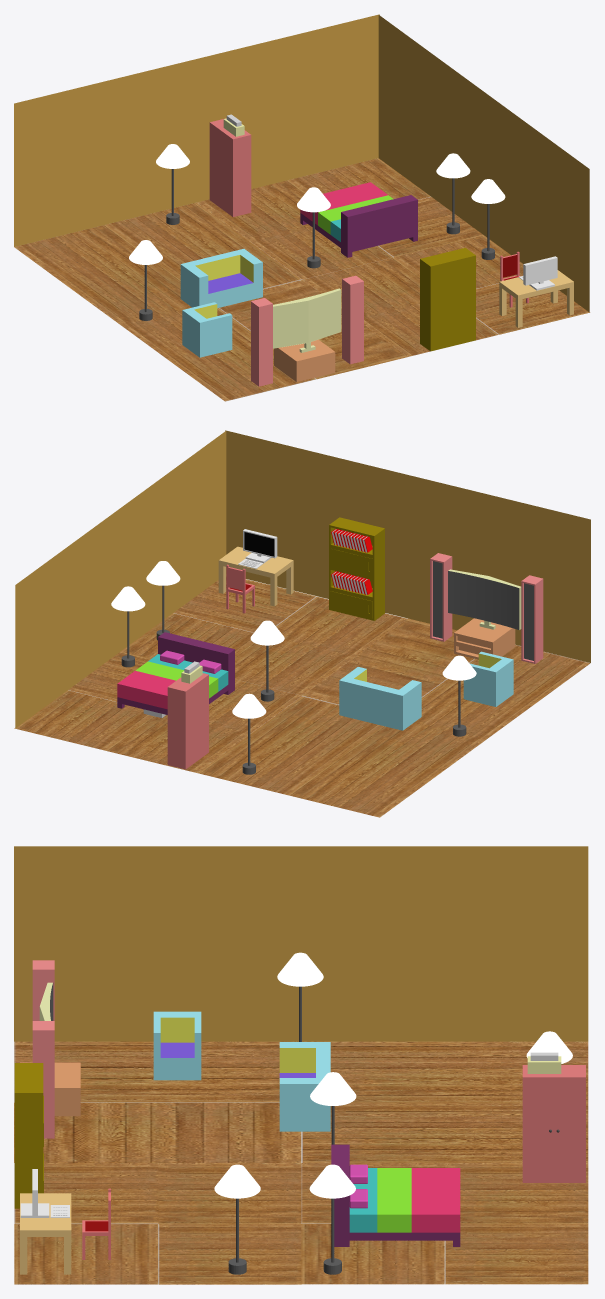
File: reWorkRoom.glb
3 views of the same model, one above another, from view 1: azimuth 30°, elevation 25°; view 2: azimuth 150°, elevation 25°; view 3: azimuth 270°, elevation 25° (orthographic). The views are drawn at different scales.
Visible parts, largest first — view 1: Environment2, Environment4, Floor_CommonRoom, Floor_Bedroom, Floor_Studyroom, bed, Book_shelf, Sofa_big, cupboard, Speakers, TV, Sofa_Small (+9 smaller); view 2: Environment3, Floor_CommonRoom, Environment4, Floor_Studyroom, Floor_Bedroom, bed, Book_shelf, cupboard, Speakers, Sofa_big, TV, Sofa_Small (+11 smaller); view 3: Environment5, Floor_CommonRoom, Floor_Studyroom, Floor_Bedroom, bed, cupboard, Sofa_big, Book_shelf, Sofa_Small, Speakers, TABLE, Lamp_study_room (+7 smaller).
Boxes of the visible parts, x1=… form: Environment2: x1=14, y1=14, x2=379, y2=246; Environment4: x1=378, y1=15, x2=589, y2=312; Floor_CommonRoom: x1=14, y1=202, x2=407, y2=401; Floor_Bedroom: x1=197, y1=158, x2=483, y2=279; Floor_Studyroom: x1=303, y1=235, x2=590, y2=356; bed: x1=300, y1=182, x2=417, y2=257; Book_shelf: x1=420, y1=248, x2=475, y2=351; Sofa_big: x1=180, y1=248, x2=262, y2=308; cupboard: x1=209, y1=114, x2=251, y2=216; Speakers: x1=251, y1=275, x2=363, y2=386; TV: x1=273, y1=288, x2=341, y2=352; Sofa_Small: x1=182, y1=302, x2=232, y2=357; Environment3: x1=225, y1=430, x2=590, y2=662; Floor_CommonRoom: x1=197, y1=618, x2=590, y2=817; Environment4: x1=15, y1=431, x2=226, y2=728; Floor_Studyroom: x1=121, y1=574, x2=407, y2=695; Floor_Bedroom: x1=14, y1=651, x2=301, y2=772; bed: x1=117, y1=632, x2=234, y2=714; Book_shelf: x1=329, y1=517, x2=384, y2=620; cupboard: x1=167, y1=661, x2=208, y2=769; Speakers: x1=430, y1=553, x2=543, y2=663; Sofa_big: x1=339, y1=667, x2=421, y2=730; TV: x1=448, y1=569, x2=521, y2=630; Sofa_Small: x1=463, y1=651, x2=513, y2=706; Environment5: x1=14, y1=846, x2=588, y2=1041; Floor_CommonRoom: x1=14, y1=1041, x2=588, y2=1162; Floor_Studyroom: x1=14, y1=1163, x2=301, y2=1284; Floor_Bedroom: x1=301, y1=1163, x2=588, y2=1284; bed: x1=331, y1=1144, x2=460, y2=1246; cupboard: x1=522, y1=1052, x2=585, y2=1182; Sofa_big: x1=279, y1=1042, x2=330, y2=1131; Book_shelf: x1=14, y1=1063, x2=43, y2=1208; Sofa_Small: x1=153, y1=1011, x2=201, y2=1080; Speakers: x1=32, y1=960, x2=54, y2=1138; TABLE: x1=20, y1=1193, x2=71, y2=1274; Lamp_study_room: x1=309, y1=1164, x2=355, y2=1274.
Size of the model in its own units: 40 by 16 by 40.18.
32 materials, 1 textured.
